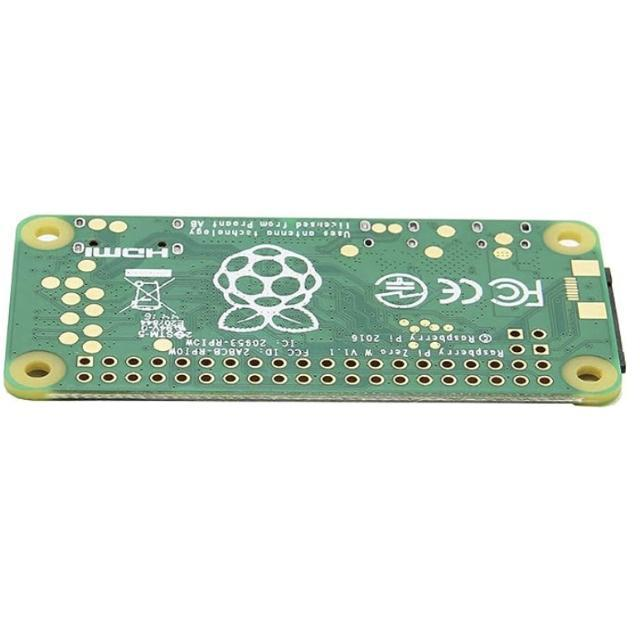Raspberry-Pi-Zero-W: (6, 216, 625, 405)
